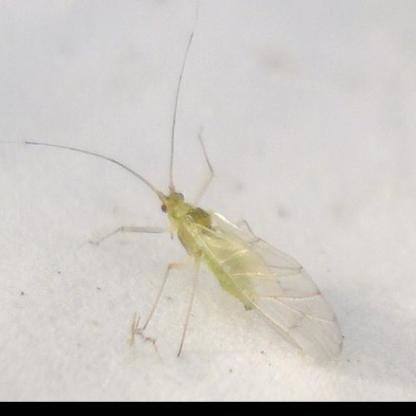aphid: (28, 69, 355, 366)
